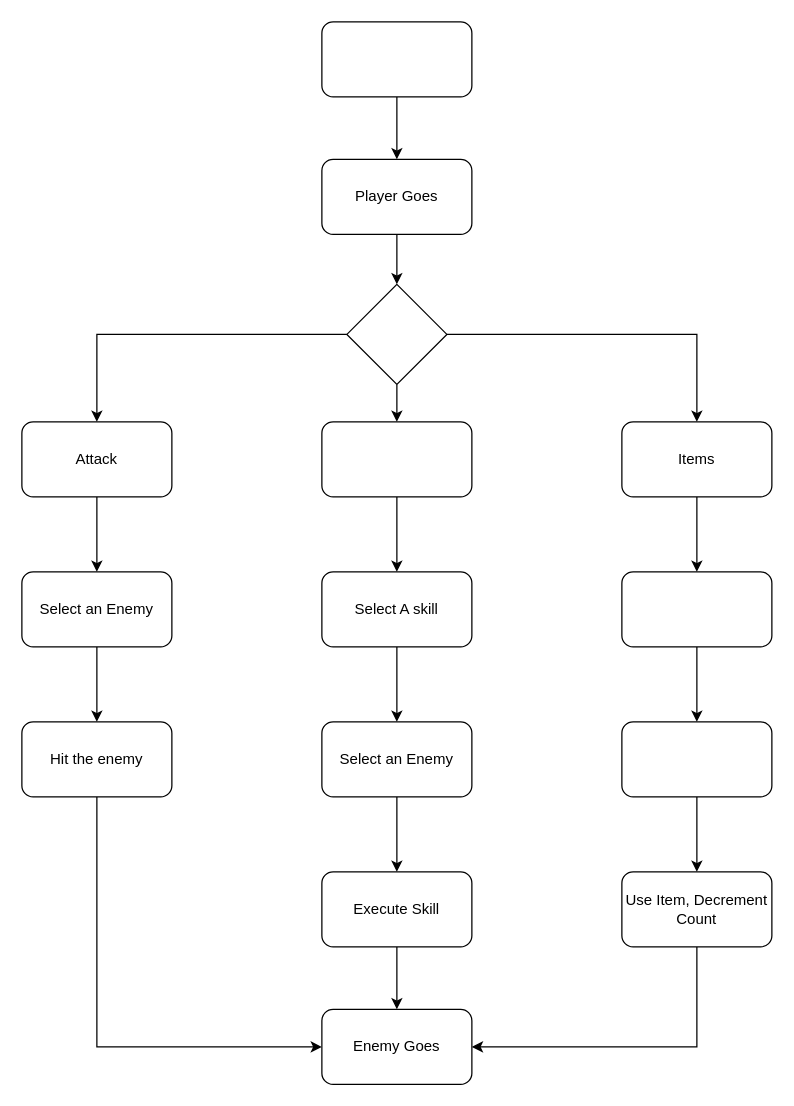
The diagram is 794 pixels wide and 1106 high, and some of its shapes have lost their labels. The shapes that lost their labels are listed below. From the top down, each one's centre as x and y in pixels, then its label:
At (396,59): "Battle Starts".
At (396,333): "Menu Tree".
At (396,459): "Skills".
At (696,609): "Select an Item".
At (696,759): "Select a target".
